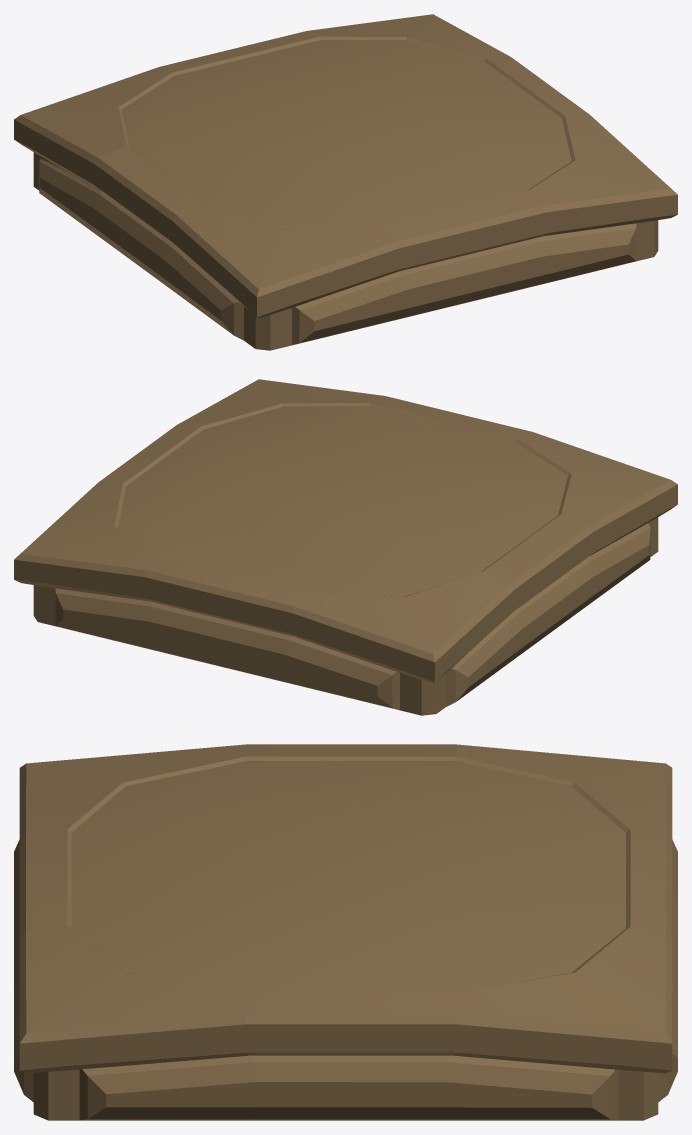
Rendered from Moving_Tile_Obstacle_Mesh_01.fbx.
3 views of the same model, one above another, from view 1: azimuth 30°, elevation 25°; view 2: azimuth 150°, elevation 25°; view 3: azimuth 270°, elevation 25° (orthographic). The views are drawn at different scales.
Visible parts, largest first — view 1: pCube79; view 2: pCube79; view 3: pCube79.
Part boxes in pixels (x1,y1,x2,y2): pCube79: [14, 14, 677, 350]; pCube79: [14, 379, 677, 715]; pCube79: [14, 744, 677, 1120].
Bounding box in the file's own units: 19.32 × 4.32 × 19.32.
